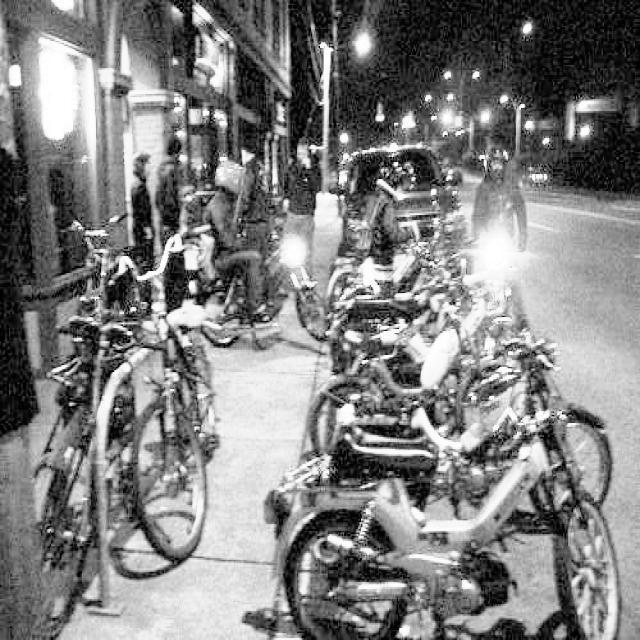Bicycle: (22, 205, 134, 619), (130, 280, 222, 553)
Car: (325, 138, 480, 262)
Motorcycle: (258, 331, 624, 640), (290, 345, 640, 536), (311, 258, 589, 406)
Person: (209, 157, 271, 317), (473, 141, 529, 262), (275, 133, 327, 254), (157, 126, 199, 232), (128, 145, 160, 229)
